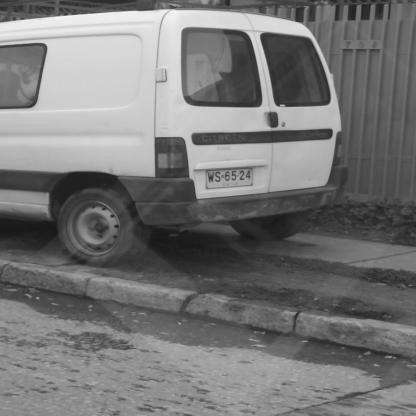Patente: (202, 165, 257, 191)
